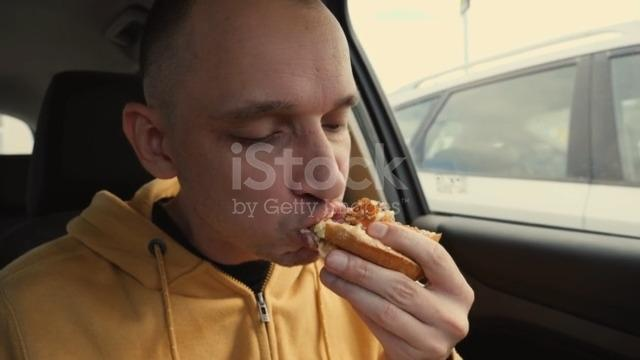Eating: (122, 13, 474, 359)
